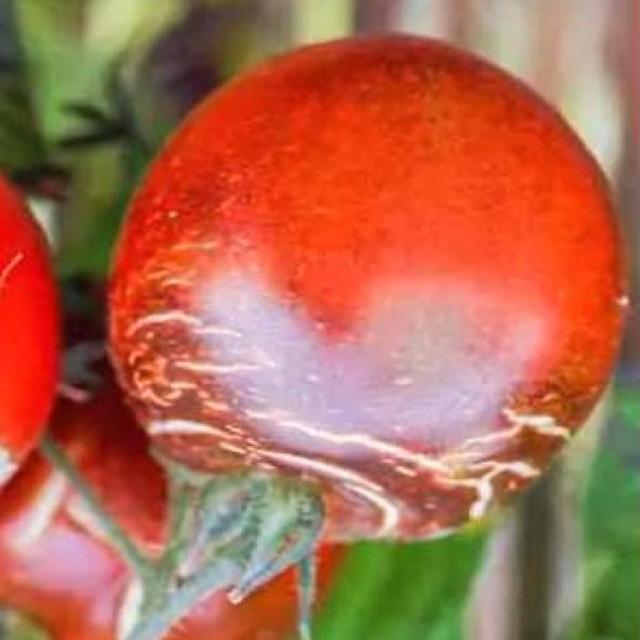Cracking Fruit: (30, 36, 325, 400)
